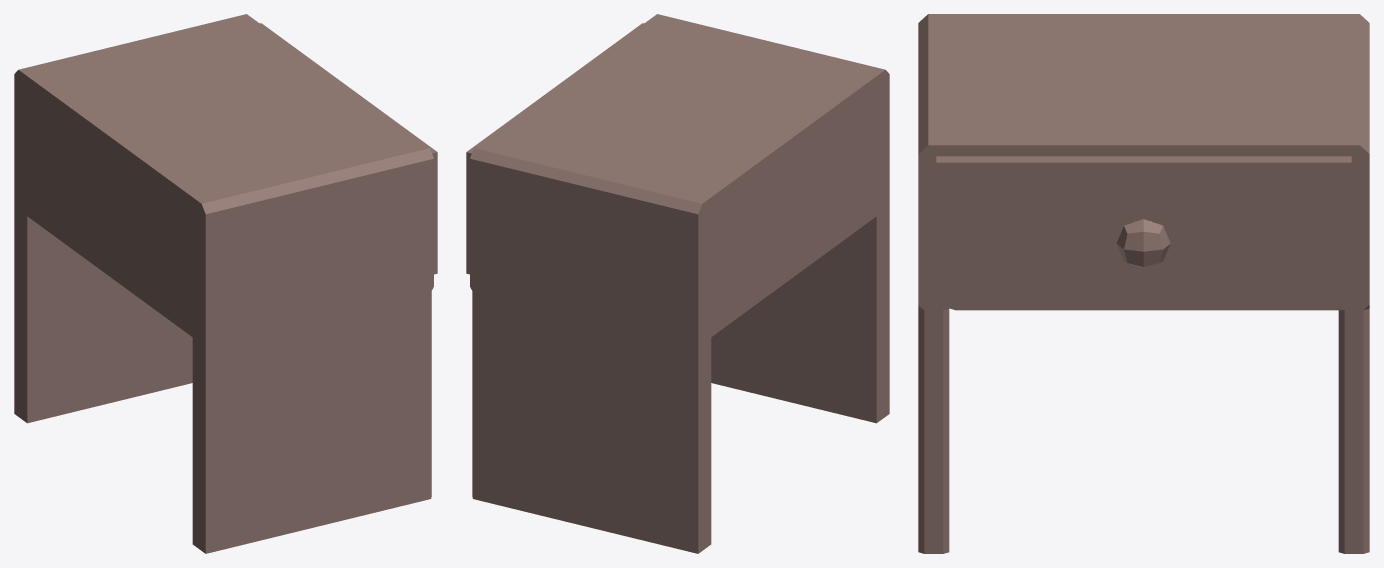
The model's file is NightStand.fbx.
The picture shows the model from 3 angles, left to right: view 1: azimuth 30°, elevation 25°; view 2: azimuth 150°, elevation 25°; view 3: azimuth 270°, elevation 25°; orthographic projection. The views are drawn at different scales.
Parts seen in each view (by area): view 1: NightStand; view 2: NightStand; view 3: NightStand.
Part boxes in pixels (x1,y1,x2,y2): NightStand: [14, 14, 437, 553]; NightStand: [466, 14, 889, 553]; NightStand: [918, 14, 1369, 553].
Bounding box in the file's own units: 84.33 × 100 × 100.
